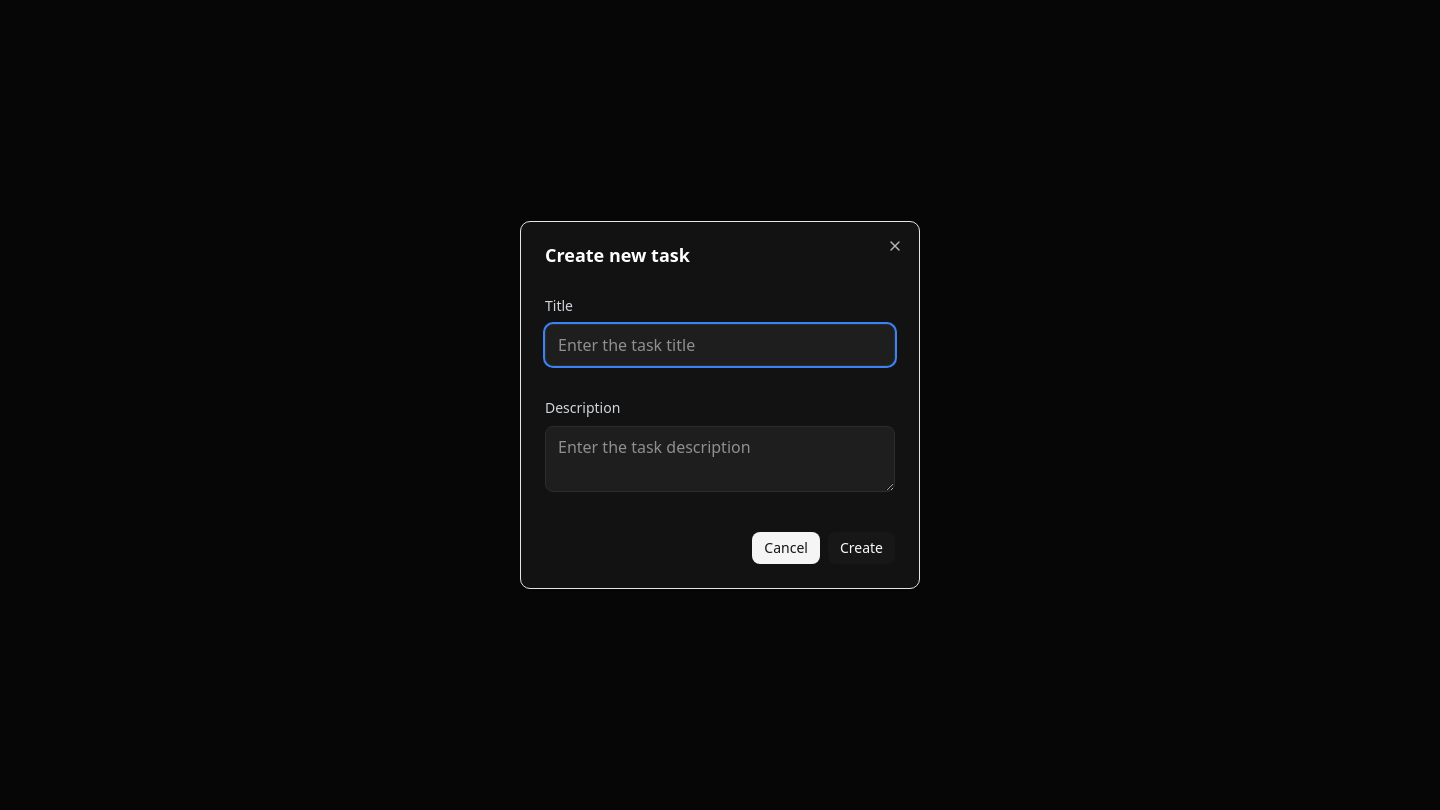
Test case: Modal component › clears error message when user fixes input
Click the button "Create": (861, 548) [828,532,895,564]
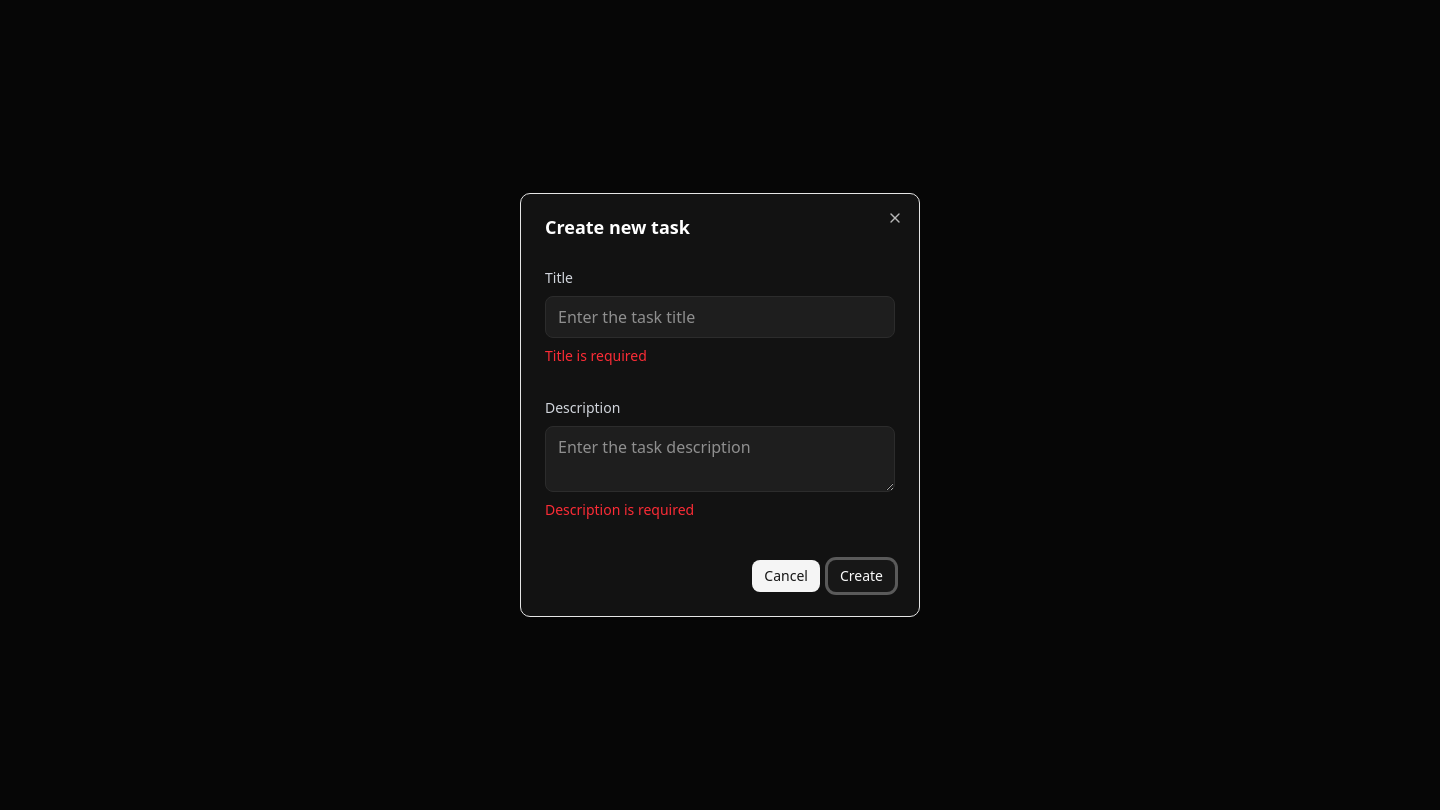
Expected: the text "Title is required" is shown, [545,346,647,365]
In the field with placeholder "Enter the task title": (720, 317) [545,296,895,338], type "Fixed Title"
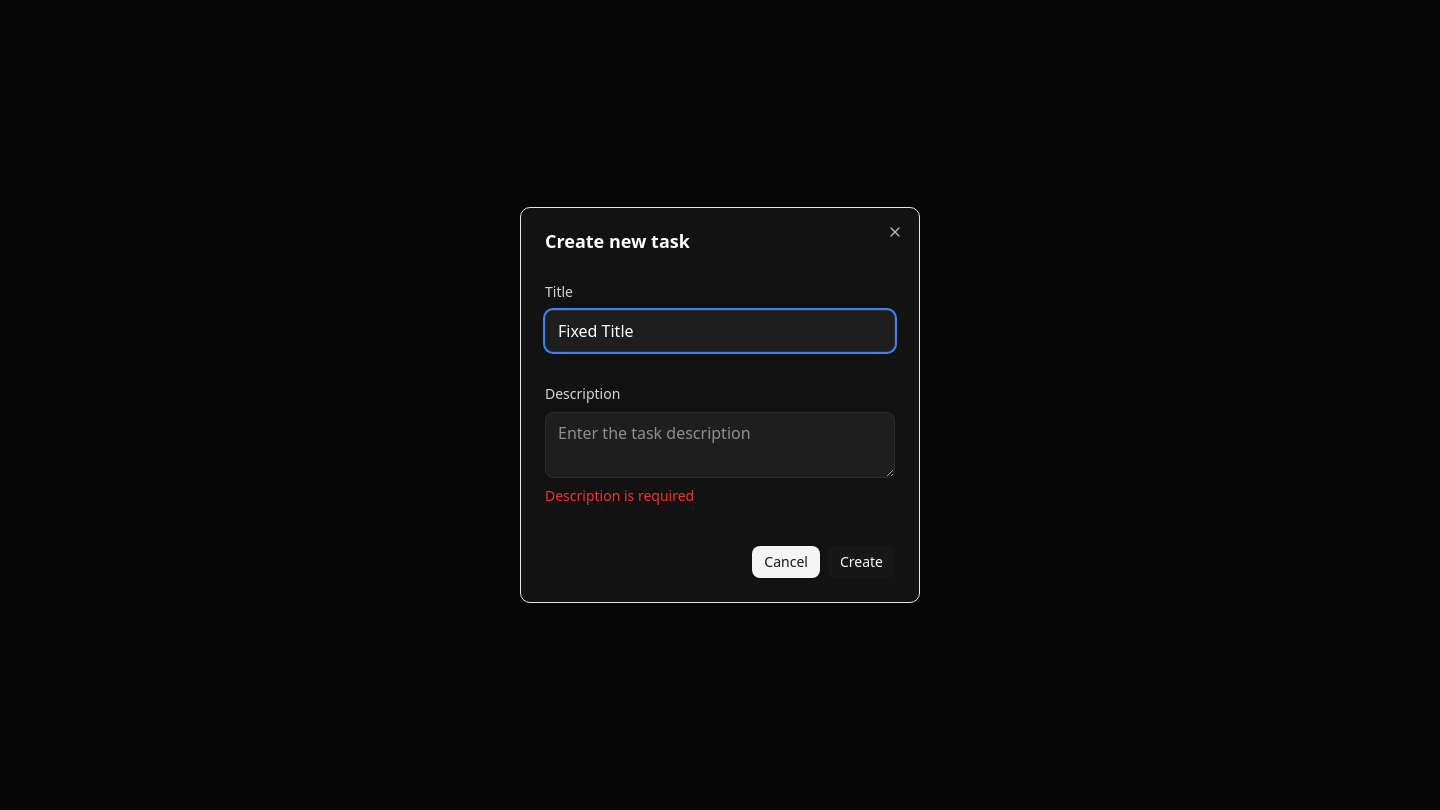
Expected: the text "Title is required" is gone
